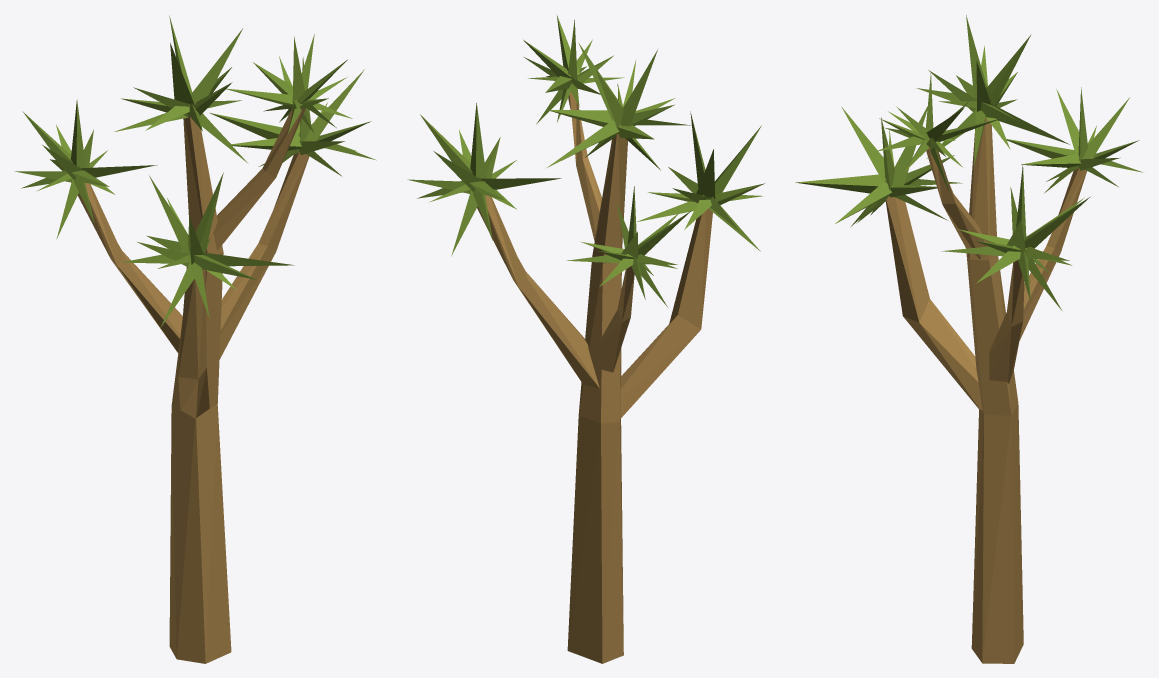
The model's file is west_tree02.FBX.
3 views of the same model, side by side, from view 1: azimuth 30°, elevation 25°; view 2: azimuth 150°, elevation 25°; view 3: azimuth 270°, elevation 25° (orthographic). The views are drawn at different scales.
Visible parts, largest first — view 1: west_tree02; view 2: west_tree02; view 3: west_tree02.
Boxes of the visible parts, bbox=[...] form: west_tree02: bbox=[14, 15, 376, 663]; west_tree02: bbox=[407, 14, 764, 663]; west_tree02: bbox=[795, 15, 1142, 663].
Size of the model in its own units: 1268 by 2459 by 1266.
